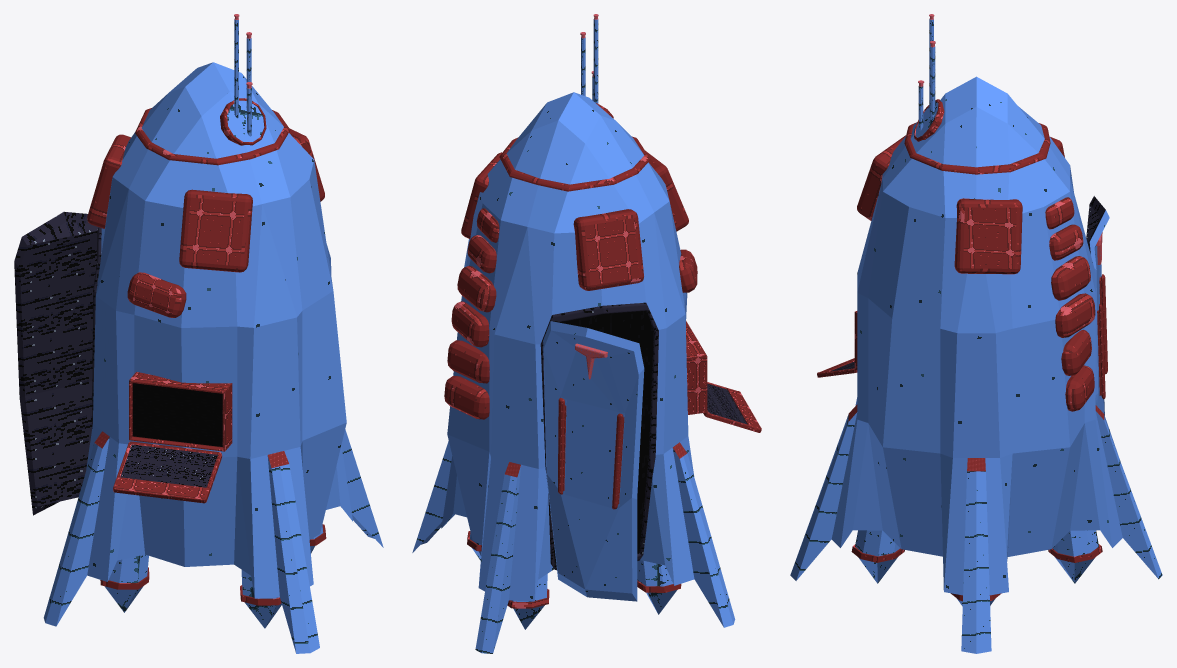
Rendered from spawn_point.gltf.
3 views of the same model, side by side, from view 1: azimuth 30°, elevation 25°; view 2: azimuth 150°, elevation 25°; view 3: azimuth 270°, elevation 25° (orthographic). The views are drawn at different scales.
Visible parts, largest first — view 1: Cube; view 2: Cube; view 3: Cube.
Part boxes in pixels (left/top/right/bottom): Cube: left=14, top=14, right=383, bottom=653; Cube: left=412, top=14, right=761, bottom=653; Cube: left=790, top=14, right=1162, bottom=653.
Size of the model in its own units: 3.98 by 6.7 by 3.98.
8 materials, 8 textured.
